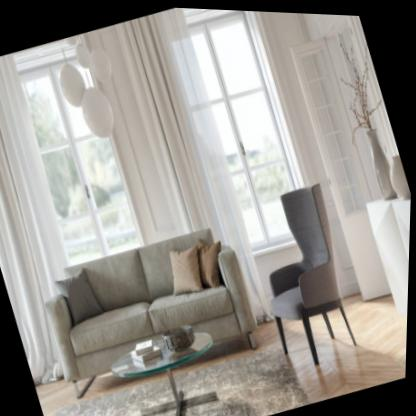Curtains: (70, 6, 234, 245), (0, 52, 72, 387)
Window: (184, 7, 317, 244), (11, 47, 150, 269)
Wooden floor: (289, 300, 409, 401)
